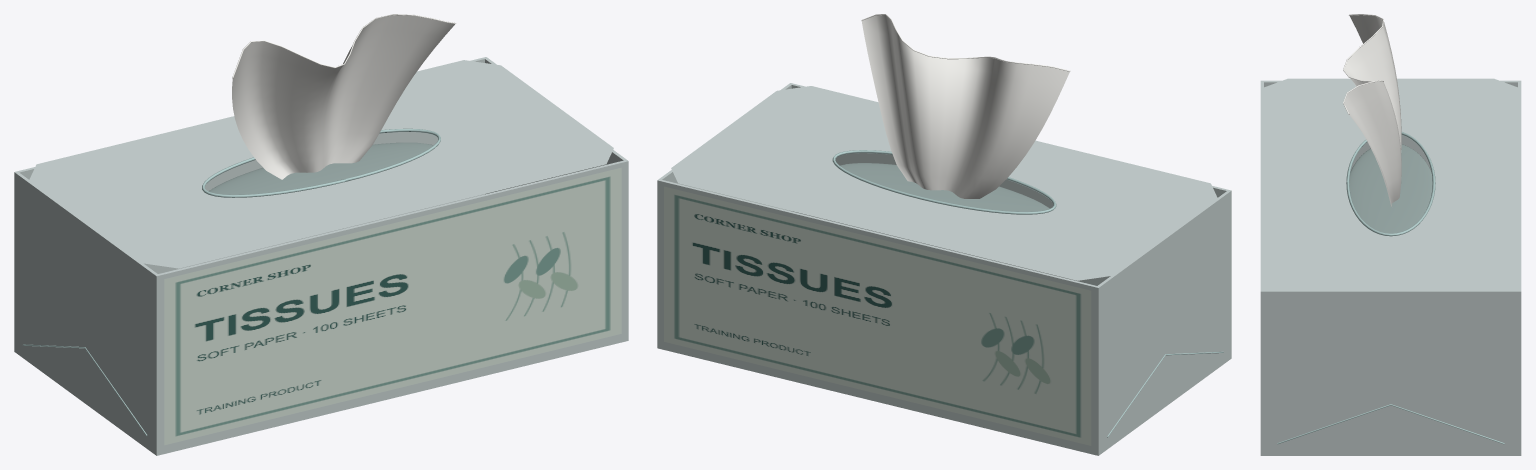
The model's file is tissues.glb.
The picture shows the model from 3 angles, left to right: view 1: azimuth 30°, elevation 25°; view 2: azimuth 150°, elevation 25°; view 3: azimuth 270°, elevation 25°; orthographic projection. The views are drawn at different scales.
Parts seen in each view (by area): view 1: library-tissues-product-tissues-soft-blue-carton, library-tissues-product-label-tissues-front-landscape, library-tissues-product-tissues-white-folded-paper, library-tissues-tissues-shadow-under-opening, library-tissues-product-tissues-opening-card-edge; view 2: library-tissues-product-tissues-soft-blue-carton, library-tissues-product-label-tissues-front-landscape, library-tissues-product-tissues-white-folded-paper, library-tissues-tissues-shadow-under-opening, library-tissues-product-tissues-opening-card-edge; view 3: library-tissues-product-tissues-soft-blue-carton, library-tissues-product-tissues-white-folded-paper, library-tissues-tissues-shadow-under-opening, library-tissues-product-tissues-opening-card-edge.
Part boxes in pixels (<box>): library-tissues-product-tissues-soft-blue-carton: <box>14,57,628,455</box>; library-tissues-product-label-tissues-front-landscape: <box>164,167,621,445</box>; library-tissues-product-tissues-white-folded-paper: <box>232,14,456,179</box>; library-tissues-tissues-shadow-under-opening: <box>208,142,433,194</box>; library-tissues-product-tissues-opening-card-edge: <box>22,128,440,435</box>; library-tissues-product-tissues-soft-blue-carton: <box>657,83,1231,455</box>; library-tissues-product-label-tissues-front-landscape: <box>664,186,1091,445</box>; library-tissues-product-tissues-white-folded-paper: <box>861,14,1070,198</box>; library-tissues-tissues-shadow-under-opening: <box>840,163,1049,211</box>; library-tissues-product-tissues-opening-card-edge: <box>832,150,1223,437</box>; library-tissues-product-tissues-soft-blue-carton: <box>1260,78,1521,455</box>; library-tissues-product-tissues-white-folded-paper: <box>1343,14,1401,206</box>; library-tissues-tissues-shadow-under-opening: <box>1349,144,1432,233</box>; library-tissues-product-tissues-opening-card-edge: <box>1277,132,1504,444</box>.
Size of the model in its own units: 0.2208 by 0.1452 by 0.1154.
5 materials, 1 textured.
